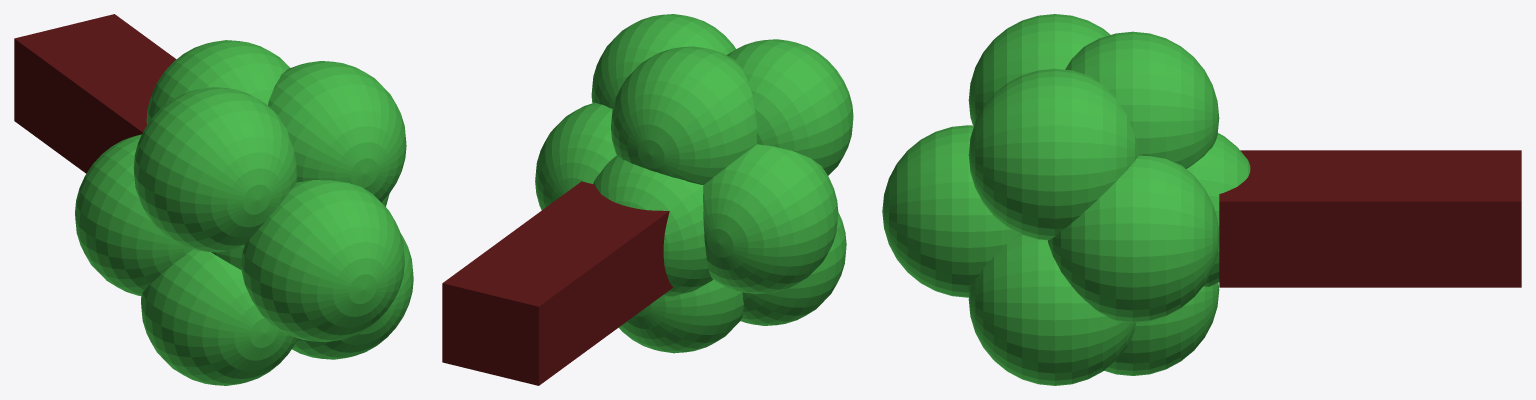
File: tree.obj
3 renders of one model, left to right at view 1: azimuth 30°, elevation 25°; view 2: azimuth 150°, elevation 25°; view 3: azimuth 270°, elevation 25°, orthographic. The views are drawn at different scales.
Parts seen in each view (by area): view 1: group_0_-12142775, group_0_-10743021; view 2: group_0_-12142775, group_0_-10743021; view 3: group_0_-12142775, group_0_-10743021.
Part boxes in pixels (x1,y1,x2,y2): group_0_-12142775: (75,40,413,385); group_0_-10743021: (14,14,176,173); group_0_-12142775: (535,14,853,353); group_0_-10743021: (442,181,673,385); group_0_-12142775: (882,14,1250,385); group_0_-10743021: (1219,150,1521,287).
Size of the model in its own units: 41 by 41 by 74.
